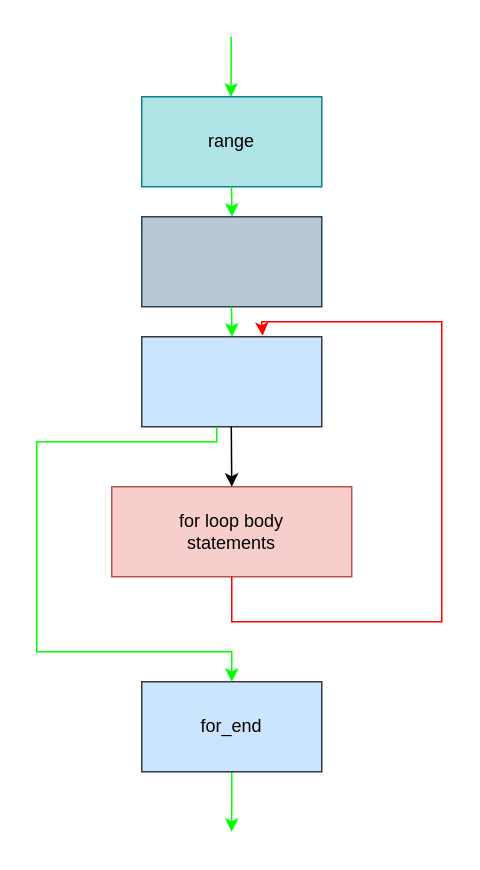
Some shapes in this 480 by 870 pixel diagram are drawn without their labels. Here are the shapes that lost their labels. From the top down, the box of each, then its label:
(140, 215, 322, 307): iter_var
(140, 335, 322, 427): for
